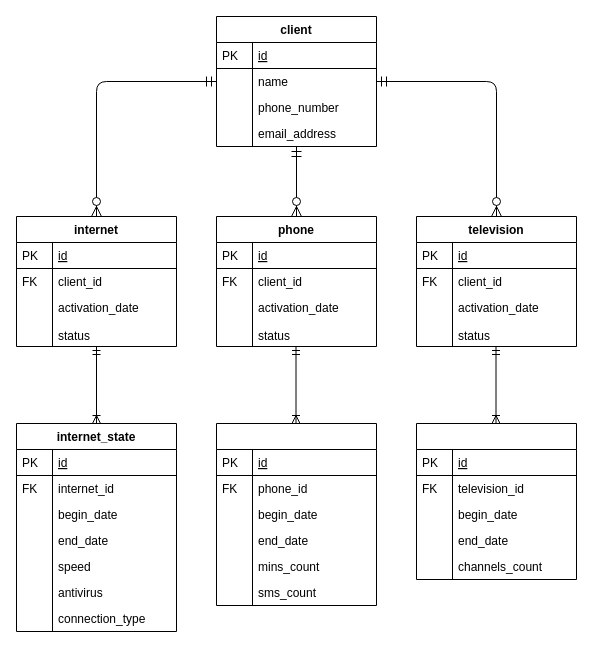
The diagram is 593 pixels wide and 648 high, and some of its shapes have lost their labels. Here are the shapes that lost their labels. From the top down, the box of each, then its label:
(216, 422, 376, 606): phone_state
(416, 422, 576, 580): television_state
